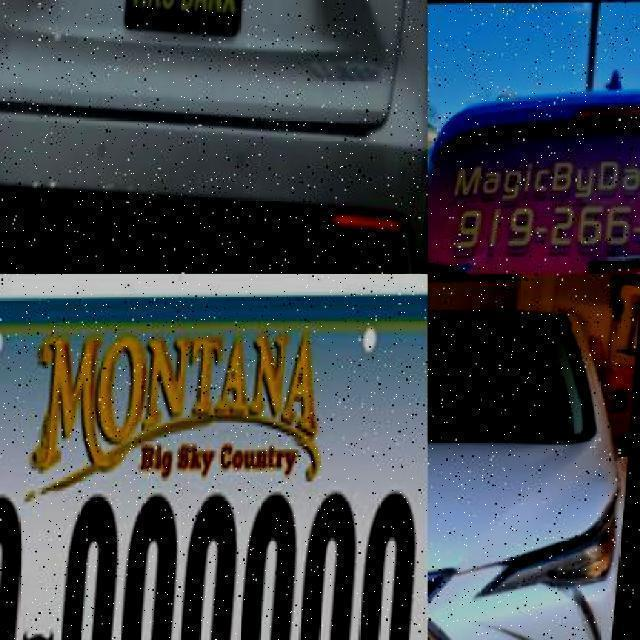License Plate: (0, 472, 428, 640), (128, 0, 254, 56)
